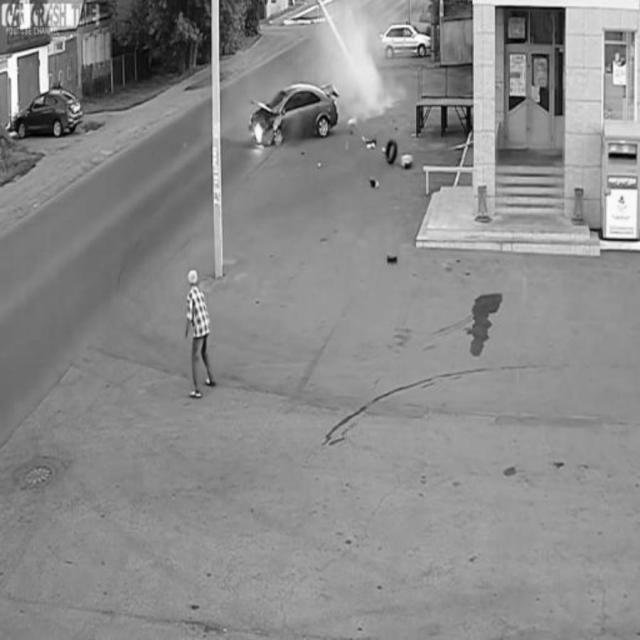person: (184, 264, 214, 398)
vehicle: (247, 84, 340, 155), (13, 84, 83, 139), (378, 20, 436, 62)
